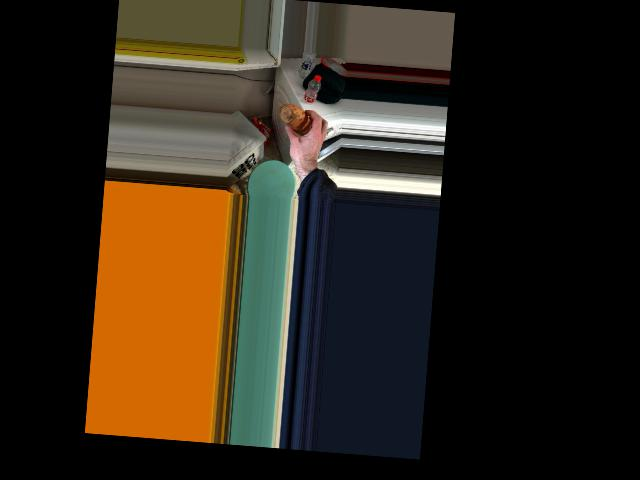sweet_potato: (278, 101, 311, 135)
